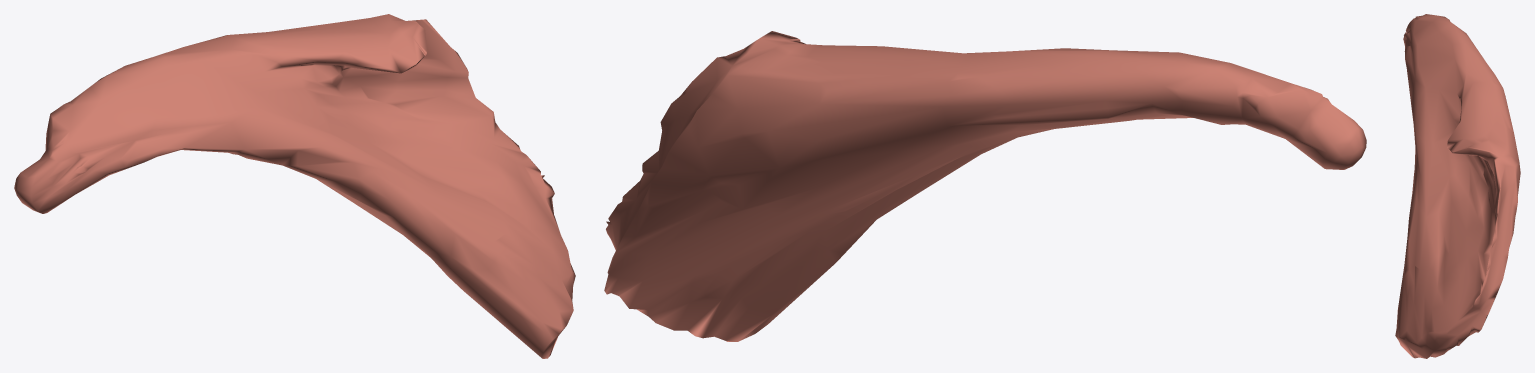
3 renders of one model, left to right at view 1: azimuth 30°, elevation 25°; view 2: azimuth 150°, elevation 25°; view 3: azimuth 270°, elevation 25°, orthographic. The views are drawn at different scales.
Parts seen in each view (by area): view 1: 右侧闭孔外肌; view 2: 右侧闭孔外肌; view 3: 右侧闭孔外肌.
Part boxes in pixels (x1,y1,x2,y2): 右侧闭孔外肌: [14, 14, 575, 358]; 右侧闭孔外肌: [604, 31, 1366, 341]; 右侧闭孔外肌: [1395, 14, 1520, 358].
Size of the model in its own units: 0.1467 by 0.0857 by 0.0456.
